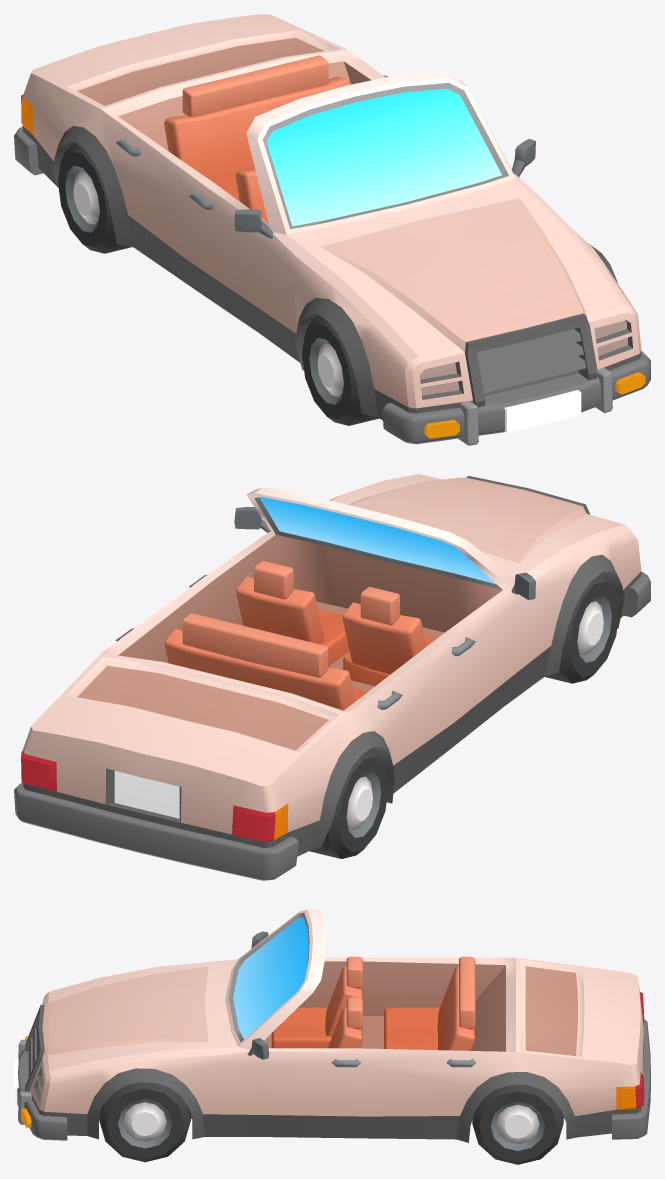
Rendered from Car_21.glb.
3 views of the same model, one above another, from view 1: azimuth 30°, elevation 25°; view 2: azimuth 150°, elevation 25°; view 3: azimuth 270°, elevation 25° (orthographic). The views are drawn at different scales.
Parts seen in each view (by area): view 1: Car_21, Wheel_133, Wheel_134; view 2: Car_21, Wheel_134, Wheel_133; view 3: Car_21, Wheel_135, Wheel_136.
Part boxes in pixels (x1=…): Car_21: x1=14, y1=14, x2=650, y2=445; Wheel_133: x1=302, y1=315, x2=379, y2=425; Wheel_134: x1=57, y1=142, x2=131, y2=253; Car_21: x1=14, y1=474, x2=650, y2=880; Wheel_134: x1=309, y1=748, x2=388, y2=858; Wheel_133: x1=545, y1=572, x2=619, y2=683; Car_21: x1=14, y1=909, x2=650, y2=1142; Wheel_135: x1=99, y1=1082, x2=190, y2=1162; Wheel_136: x1=472, y1=1085, x2=563, y2=1164.
Size of the model in its own units: 2.53 by 1.78 by 5.9.
2 materials, 2 textured.
